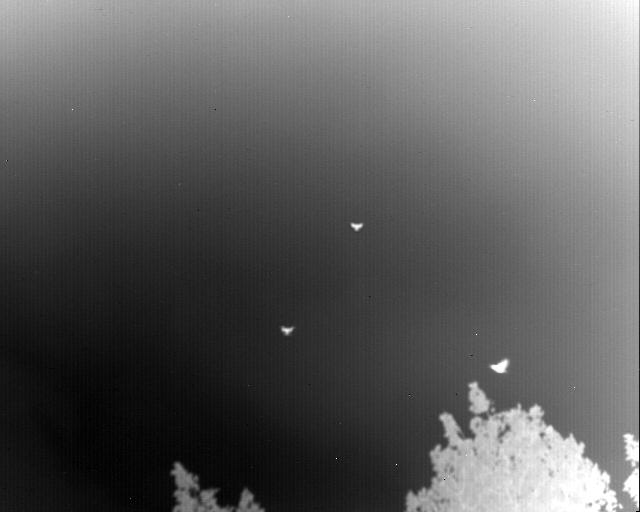plane: (280, 324, 295, 335), (350, 221, 364, 230)
